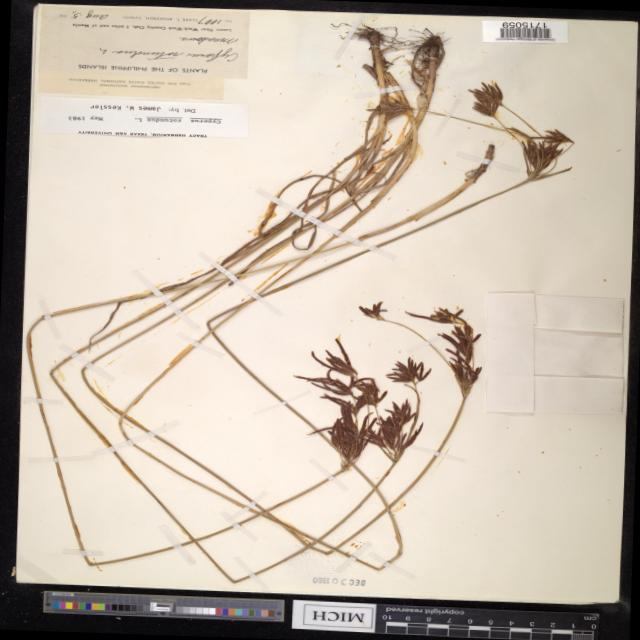cyperus: (278, 289, 502, 481), (448, 79, 584, 198)
